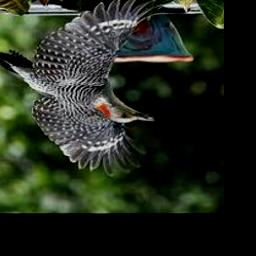Woodpecker: (0, 0, 177, 177)
